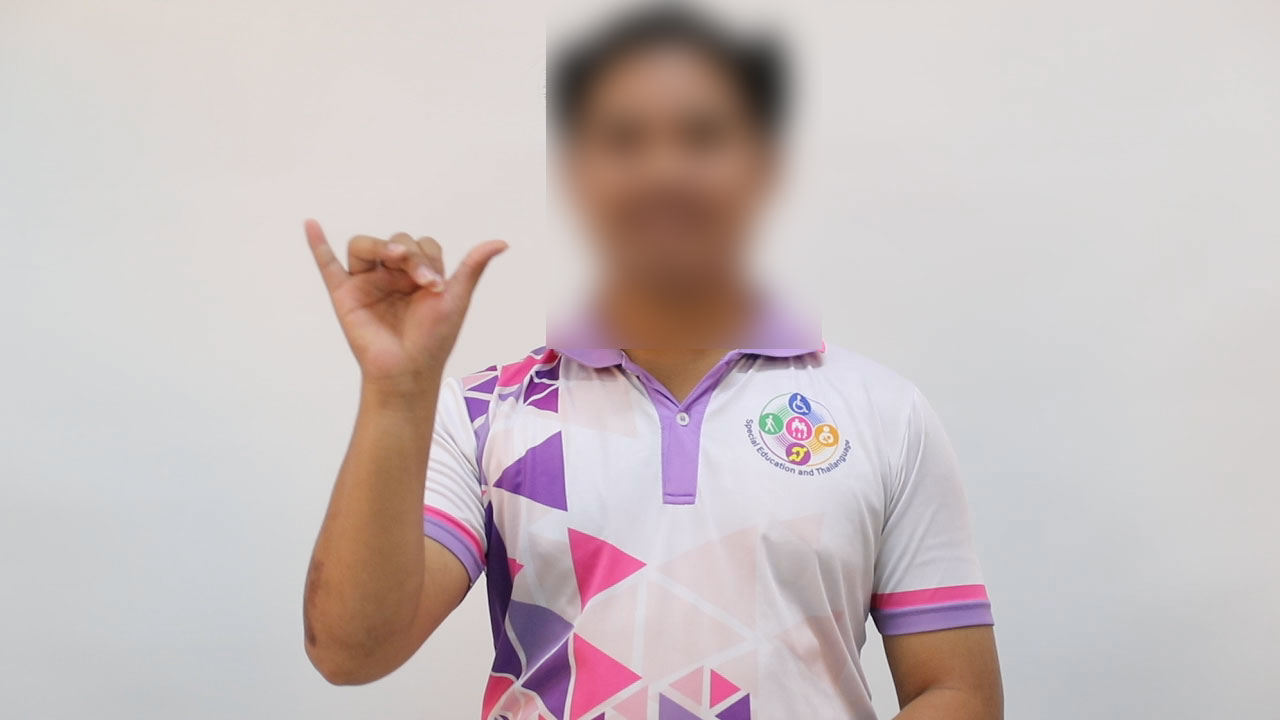yor: (289, 210, 522, 399)
